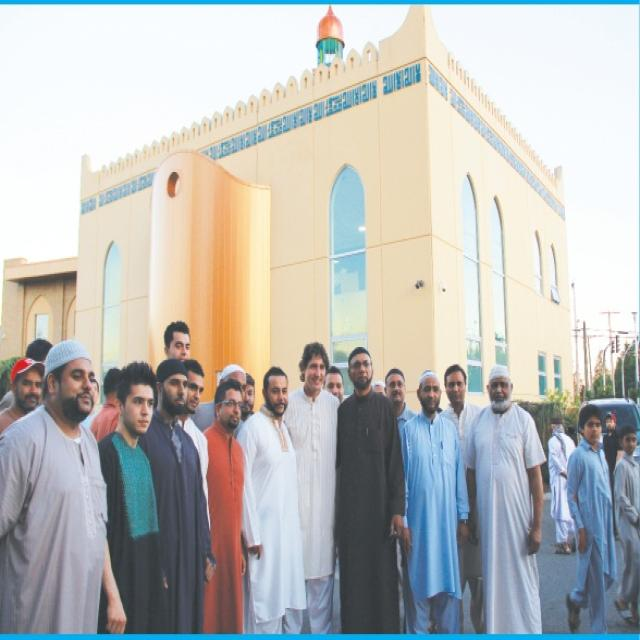body: (0, 334, 112, 638), (462, 360, 548, 639), (87, 358, 162, 638), (334, 346, 405, 636), (395, 366, 470, 638), (235, 365, 309, 634), (147, 359, 217, 637), (280, 340, 340, 636), (196, 376, 251, 639), (438, 363, 483, 636), (565, 402, 617, 636), (174, 356, 213, 538), (611, 424, 640, 626), (546, 414, 578, 557), (190, 362, 248, 440), (0, 354, 48, 436), (602, 410, 626, 541), (89, 366, 125, 443), (382, 366, 419, 440), (159, 316, 196, 359), (23, 334, 54, 361), (323, 366, 345, 404), (243, 373, 257, 414), (88, 369, 100, 415), (372, 378, 388, 398)
